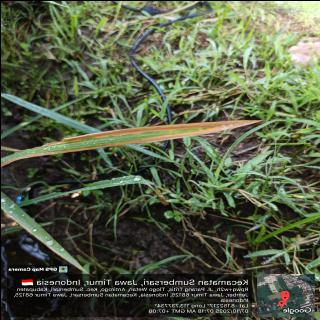Hawar-Daun: (0, 118, 265, 166)
